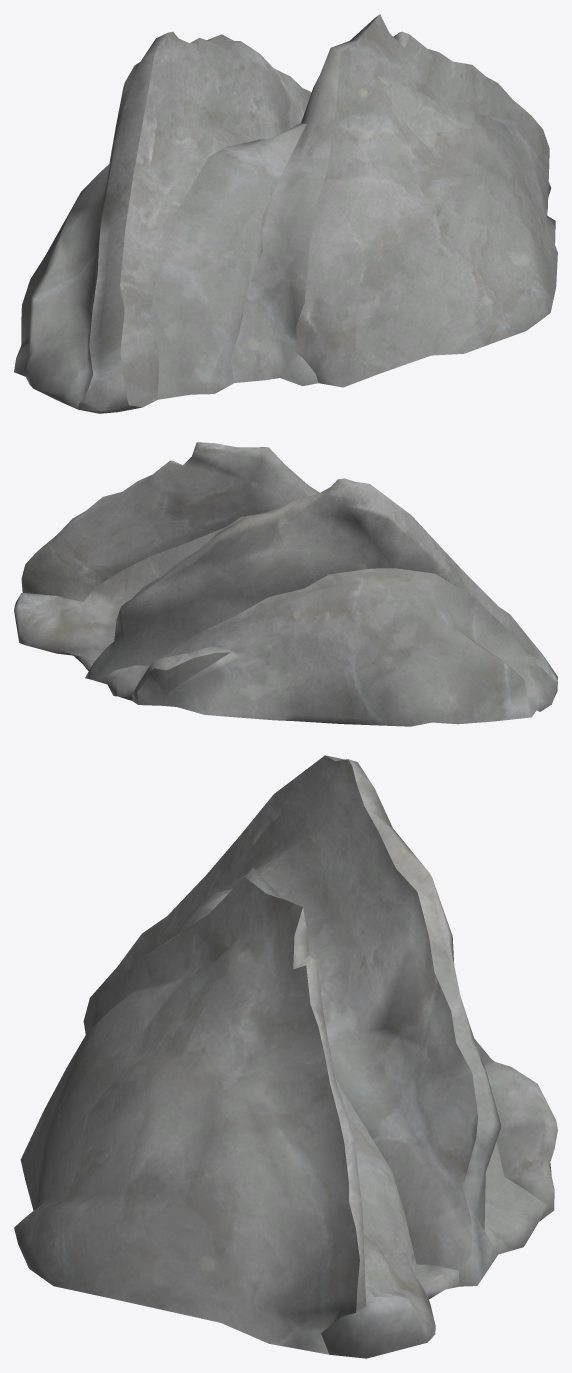
File: SM_Com_Roc_33AS.fbx
3 renders of one model, top to bottom at view 1: azimuth 30°, elevation 25°; view 2: azimuth 150°, elevation 25°; view 3: azimuth 270°, elevation 25°, orthographic. The views are drawn at different scales.
Visible parts, largest first — view 1: SM_Com_Roc_33AS.mo; view 2: SM_Com_Roc_33AS.mo; view 3: SM_Com_Roc_33AS.mo.
Part boxes in pixels (<box>): SM_Com_Roc_33AS.mo: <box>14,14,557,413</box>; SM_Com_Roc_33AS.mo: <box>14,442,557,726</box>; SM_Com_Roc_33AS.mo: <box>14,755,557,1358</box>.
Bounding box in the file's own units: 6.46 × 2.97 × 3.98.
